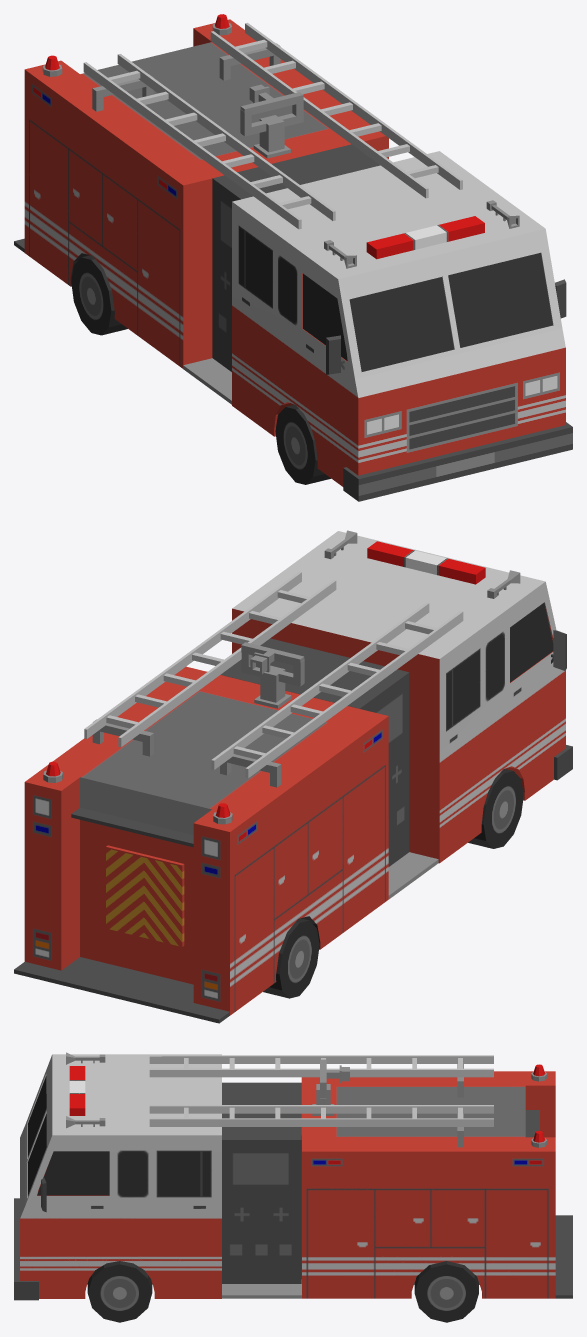
The model's file is Car_FireTruck.glb.
3 views of the same model, one above another, from view 1: azimuth 30°, elevation 25°; view 2: azimuth 150°, elevation 25°; view 3: azimuth 270°, elevation 25° (orthographic). The views are drawn at different scales.
Visible parts, largest first — view 1: Object_193.001, wheel_4, wheel_2; view 2: Object_193.001, wheel_4, wheel_2; view 3: Object_193.001, wheel_1, wheel_3.
Boxes of the visible parts, box(x1,y1,x2,y2) form: Object_193.001: box(14, 14, 572, 501); wheel_4: box(71, 255, 127, 335); wheel_2: box(275, 404, 330, 484); Object_193.001: box(14, 530, 572, 1023); wheel_4: box(263, 918, 319, 998); wheel_2: box(468, 769, 523, 848); Object_193.001: box(14, 1052, 572, 1300); wheel_1: box(87, 1261, 152, 1322); wheel_3: box(414, 1261, 478, 1322).
Bounding box in the file's own units: 3.63 × 3.88 × 9.18.
1 material, 1 textured.
